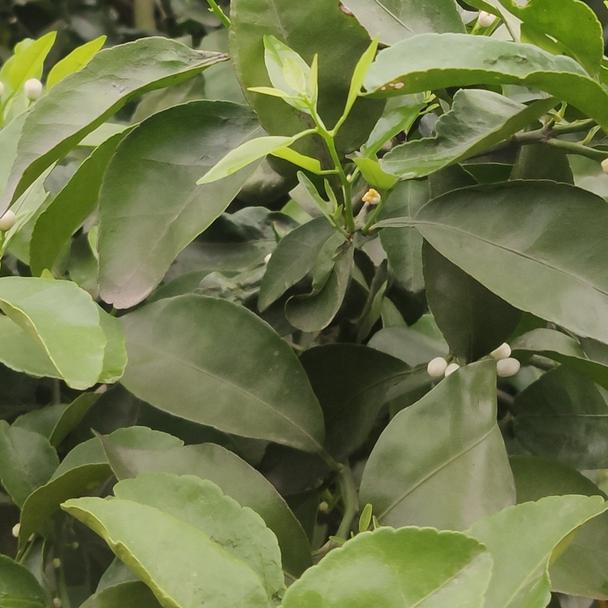shoot: (225, 49, 418, 226)
